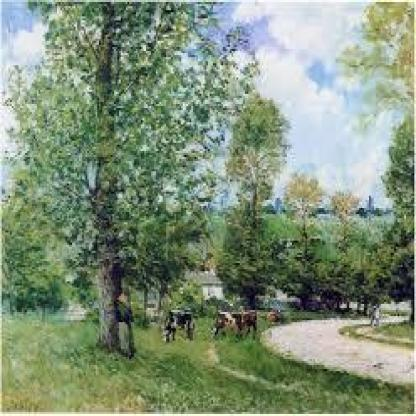cow: (160, 309, 196, 344), (230, 309, 258, 339), (212, 310, 234, 338)
